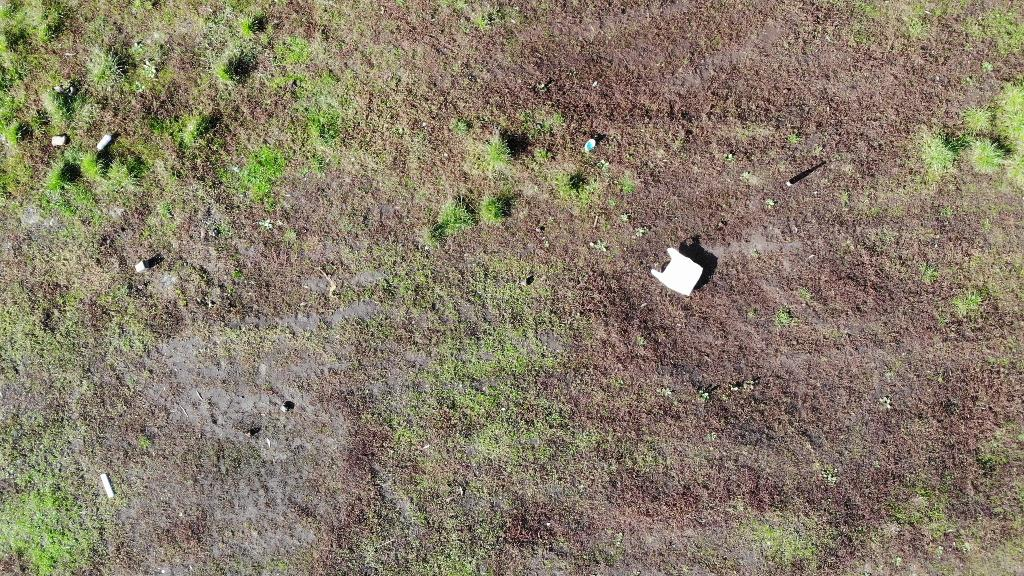garbage: (647, 244, 711, 302), (647, 247, 705, 297), (99, 470, 115, 498), (94, 134, 113, 154), (582, 137, 599, 155), (95, 134, 113, 151), (132, 258, 150, 273), (50, 135, 66, 148)
